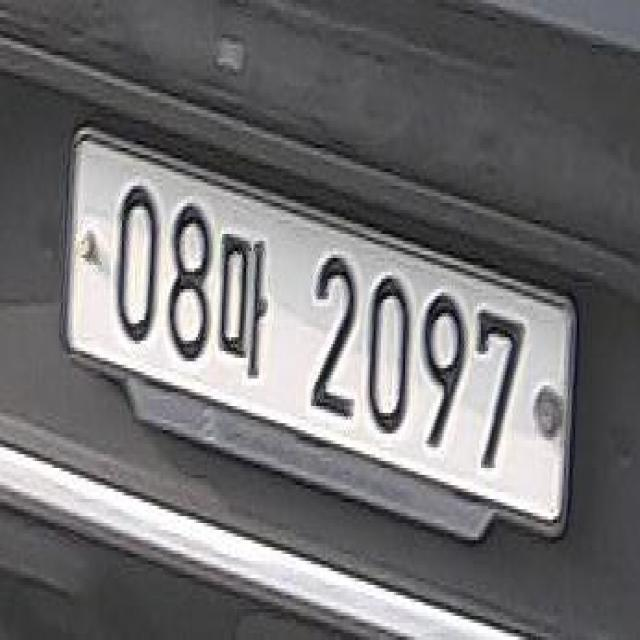illegal_plate: (62, 121, 575, 544)
